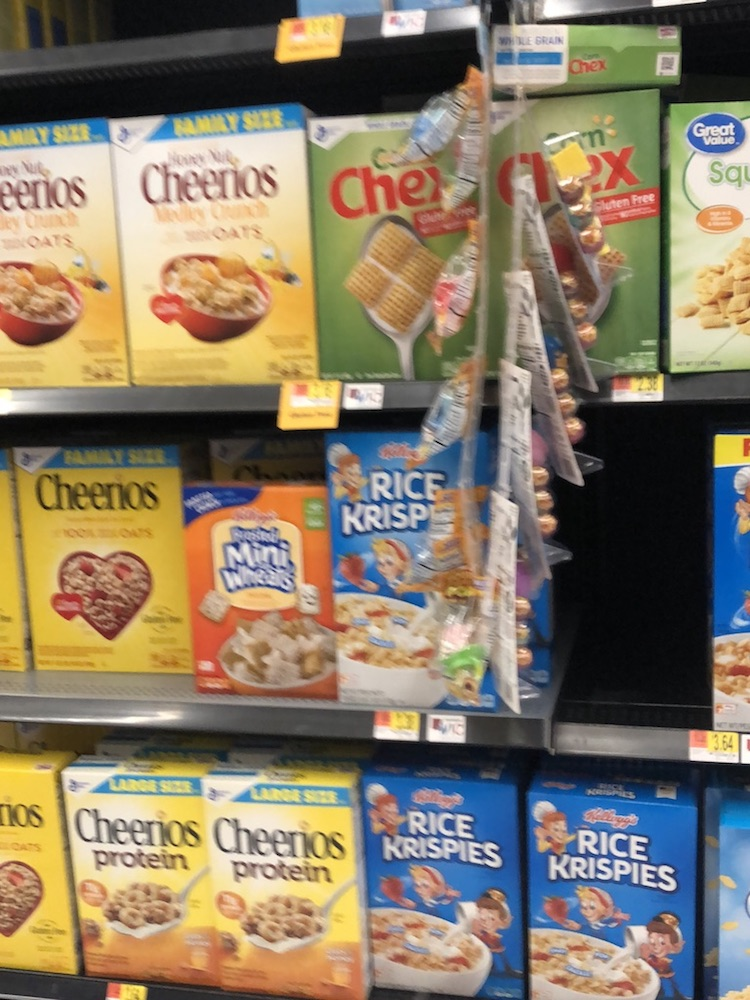Frosted Mini Original -9295869: (187, 484, 329, 698)
